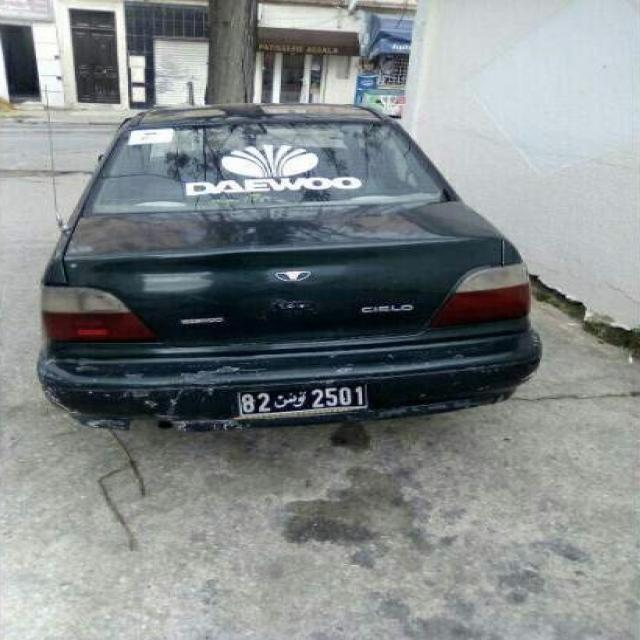licence plate: (241, 385, 364, 414)
